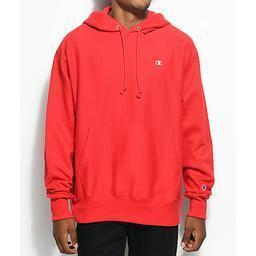sweater: (44, 7, 216, 227)
